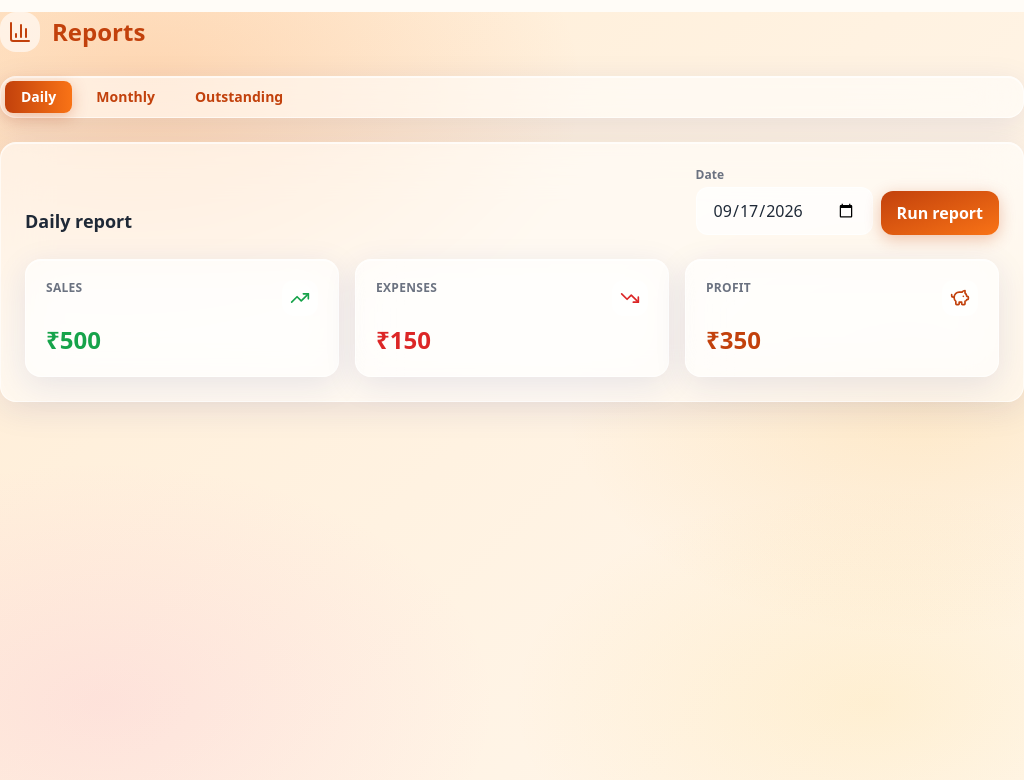
Test: Reports page › renders the outstanding report with receivables and payables
Check: the heading "Daily report" is shown, box left=25, top=207, right=132, bottom=235
Click the button "Outstanding".
click(239, 97)  # box left=179, top=81, right=299, bottom=113
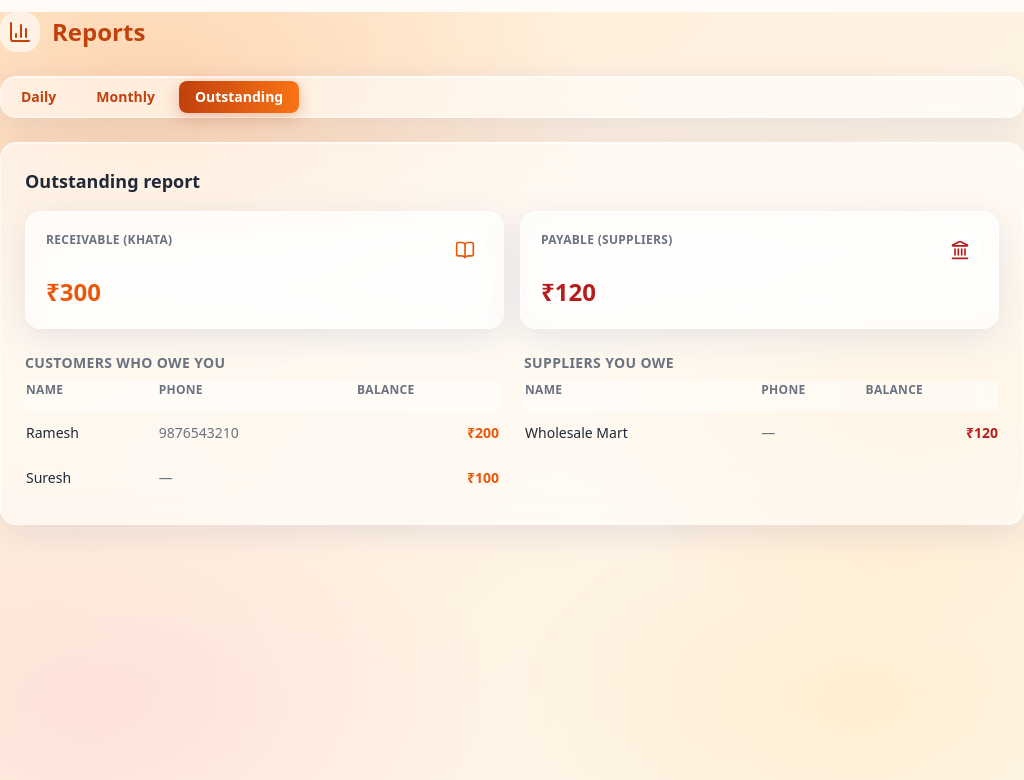
Check: the heading "Outstanding report" is shown, box left=25, top=169, right=200, bottom=193
Check: the text "Ramesh" is shown, box left=25, top=410, right=158, bottom=456
Check: the text "Suresh" is shown, box left=25, top=456, right=158, bottom=500
